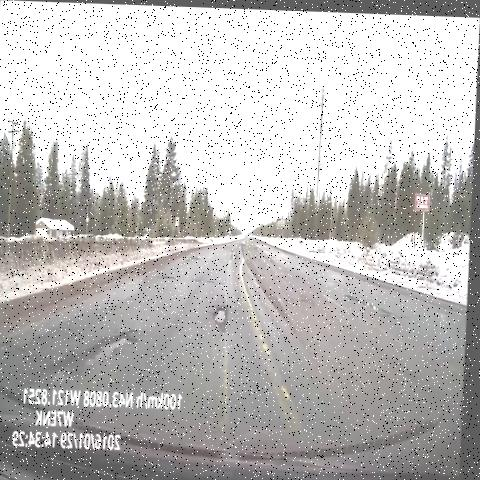pothole: (39, 305, 149, 394), (338, 271, 398, 327), (209, 287, 238, 335), (233, 233, 266, 264), (193, 267, 224, 291), (180, 248, 204, 271), (152, 272, 183, 288)
